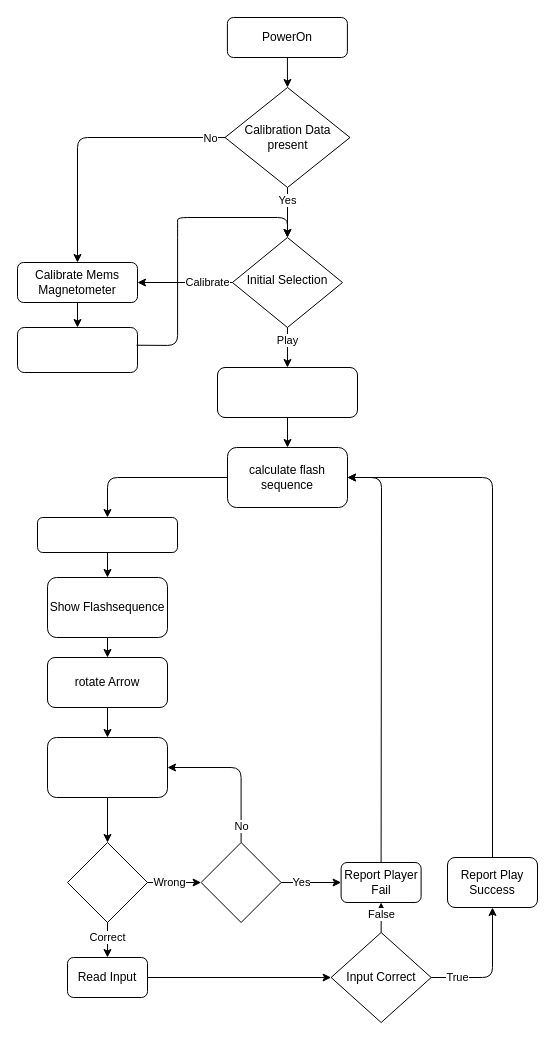
Image size: 555x1040. Some labels were removed from this diagram. The box of each missing label's shape, as (x1, y1, x2, y2) in pixels:
check Rotation?: (66, 842, 148, 922)
Configure (Players, Difficulty): (216, 366, 358, 418)
store Calibration Data: (16, 326, 138, 372)
Timed Out?: (200, 842, 281, 922)
wait for Board Rotation - decrement Display Bars: (46, 736, 168, 798)
wait For CenterPress: (36, 516, 178, 552)
